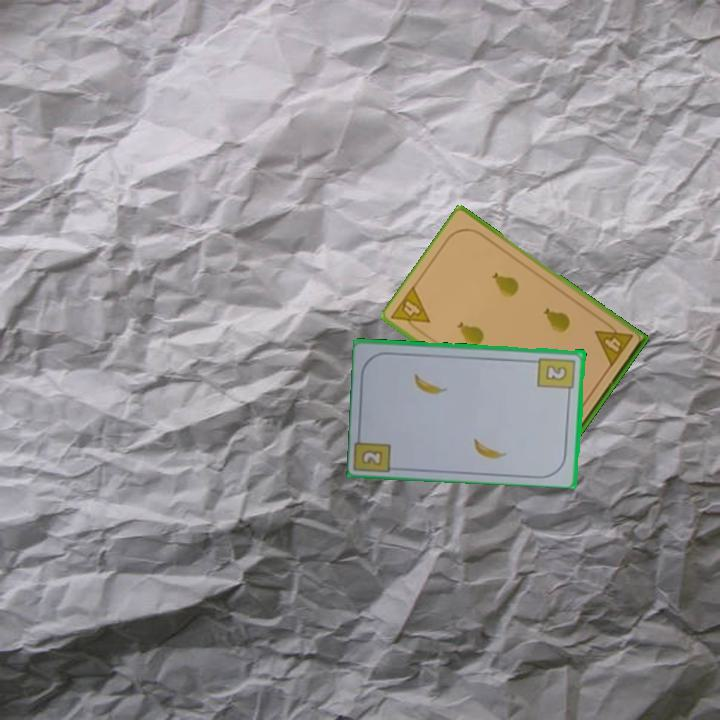2b: (535, 354, 578, 397), (358, 446, 386, 468)
4p: (388, 282, 433, 338), (591, 317, 636, 370)
